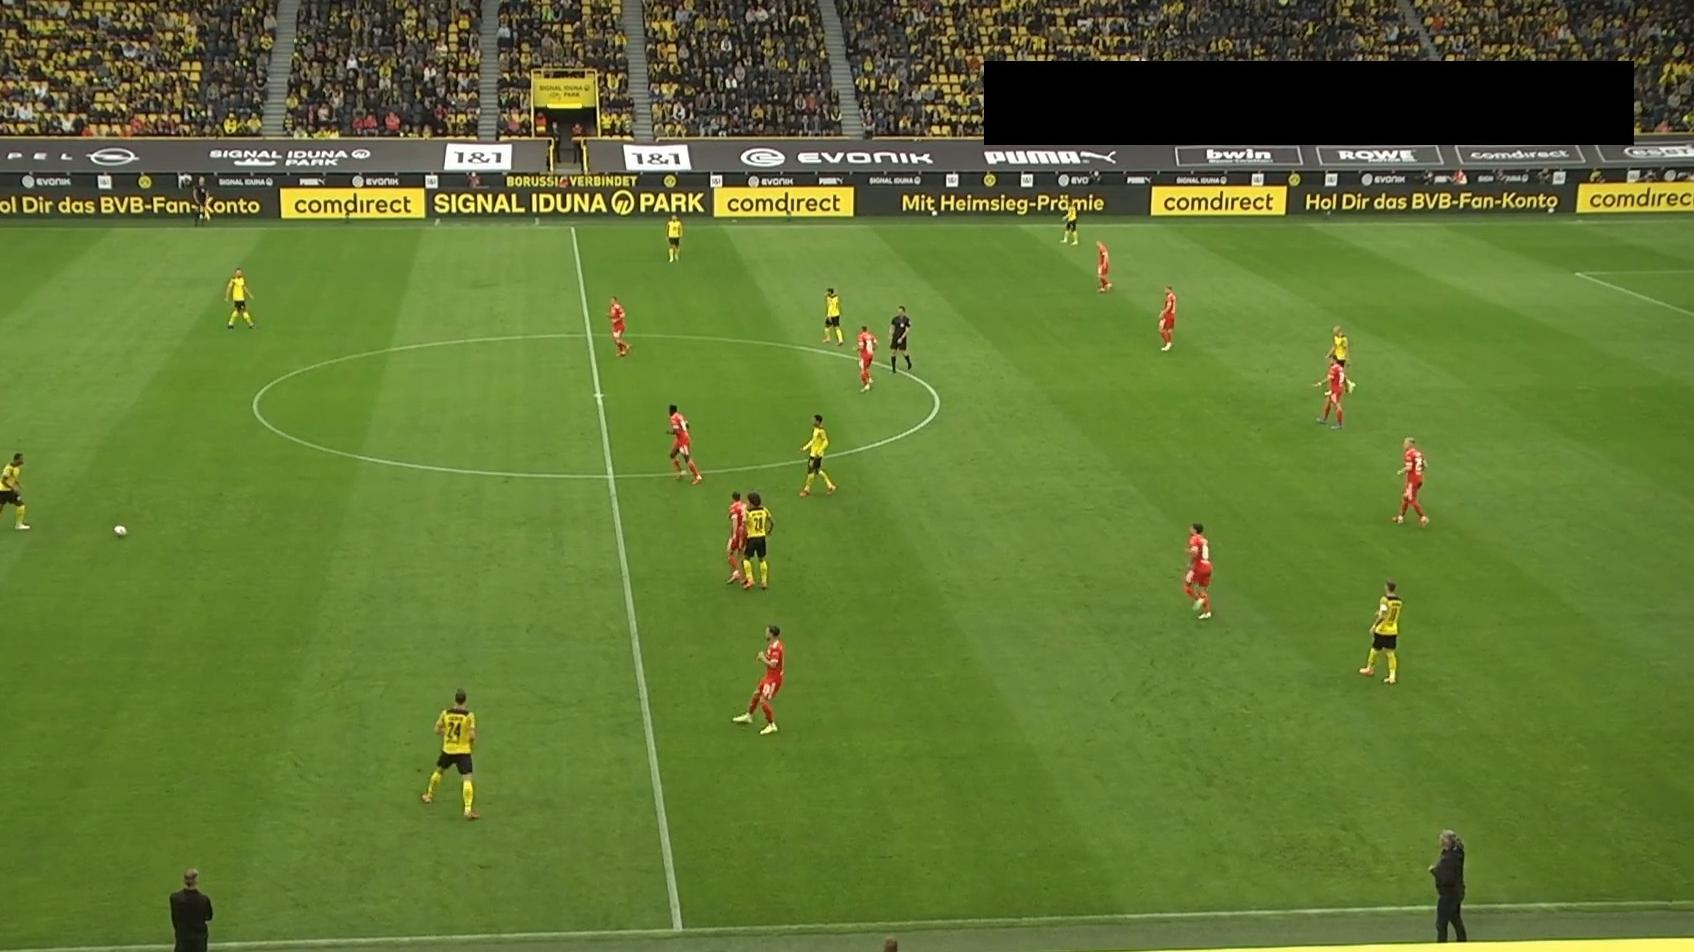ball: (112, 523, 129, 539)
